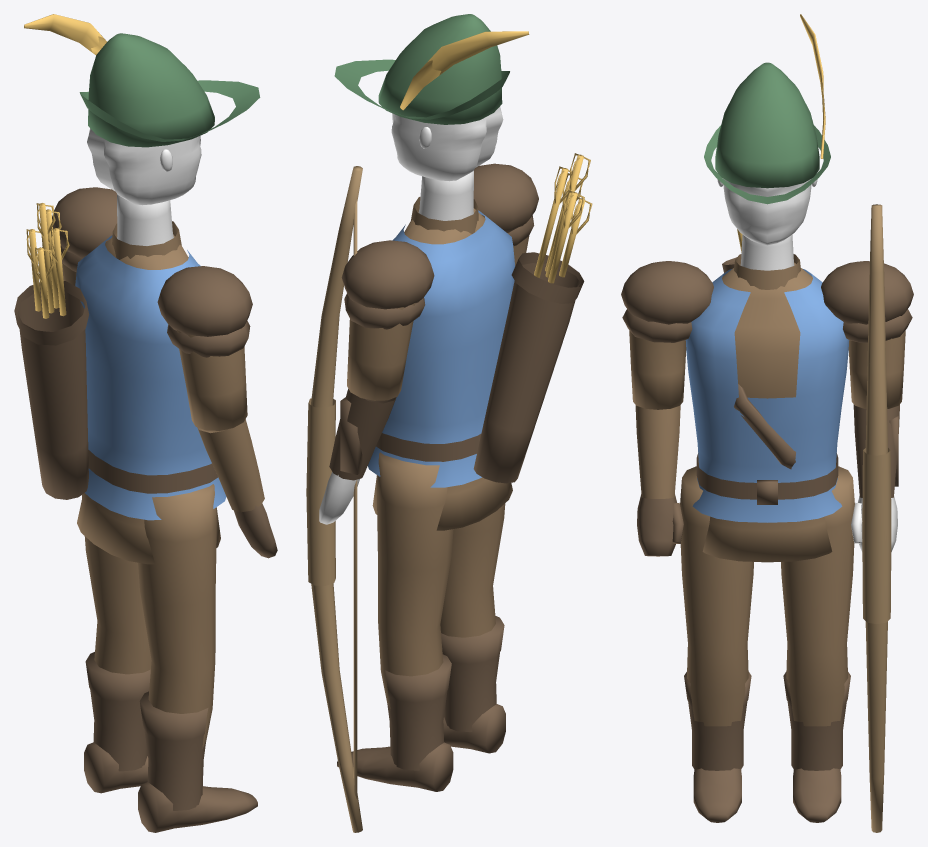
File: peasant_archer.glb
The picture shows the model from 3 angles, left to right: view 1: azimuth 30°, elevation 25°; view 2: azimuth 150°, elevation 25°; view 3: azimuth 270°, elevation 25°; orthographic projection. The views are drawn at different scales.
Visible parts, largest first — view 1: Vest_Team, Leg_R, Hunting_Hat, Quiver, Boot_R, Pauldron_R, Boot_L, Leg_L, Head, Arm_R, Torso, Pauldron_L (+7 smaller); view 2: Vest_Team, Weapon, Leg_L, Quiver, Hunting_Hat, Boot_L, Pauldron_L, Boot_R, Leg_R, Head, Arm_L, Pauldron_R (+8 smaller); view 3: Vest_Team, Weapon, Leg_L, Leg_R, Torso, Hunting_Hat, Pauldron_R, Boot_R, Boot_L, Pauldron_L, Belt, Arm_R (+9 smaller).
Part boxes in pixels (bbox=[...]): Vest_Team: bbox=[75, 235, 226, 520]; Leg_R: bbox=[138, 484, 216, 748]; Hunting_Hat: bbox=[79, 33, 260, 147]; Quiver: bbox=[14, 281, 89, 499]; Boot_R: bbox=[138, 691, 257, 832]; Pauldron_R: bbox=[157, 266, 252, 357]; Boot_L: bbox=[84, 652, 203, 793]; Leg_L: bbox=[81, 494, 151, 674]; Head: bbox=[87, 128, 201, 205]; Arm_R: bbox=[177, 330, 247, 430]; Torso: bbox=[77, 233, 220, 564]; Pauldron_L: bbox=[52, 187, 117, 272]; Vest_Team: bbox=[368, 210, 515, 487]; Weapon: bbox=[306, 166, 362, 832]; Leg_L: bbox=[377, 452, 453, 710]; Quiver: bbox=[473, 252, 584, 483]; Hunting_Hat: bbox=[334, 14, 509, 124]; Boot_L: bbox=[337, 654, 453, 791]; Pauldron_L: bbox=[341, 240, 434, 329]; Boot_R: bbox=[389, 616, 505, 753]; Leg_R: bbox=[440, 503, 505, 637]; Head: bbox=[391, 107, 503, 181]; Arm_L: bbox=[347, 303, 415, 400]; Pauldron_R: bbox=[473, 163, 538, 246]; Vest_Team: bbox=[685, 268, 849, 522]; Weapon: bbox=[862, 204, 891, 832]; Leg_L: bbox=[781, 466, 854, 726]; Leg_R: bbox=[680, 466, 753, 726]; Torso: bbox=[702, 262, 832, 562]; Hunting_Hat: bbox=[704, 62, 830, 204]; Pauldron_R: bbox=[621, 261, 713, 342]; Boot_R: bbox=[684, 672, 751, 822]; Boot_L: bbox=[783, 672, 850, 822]; Pauldron_L: bbox=[821, 261, 913, 342]; Belt: bbox=[696, 384, 838, 504]; Arm_R: bbox=[629, 330, 686, 409].
Bounding box in the file's own units: 0.3906 × 1.26 × 0.442.
